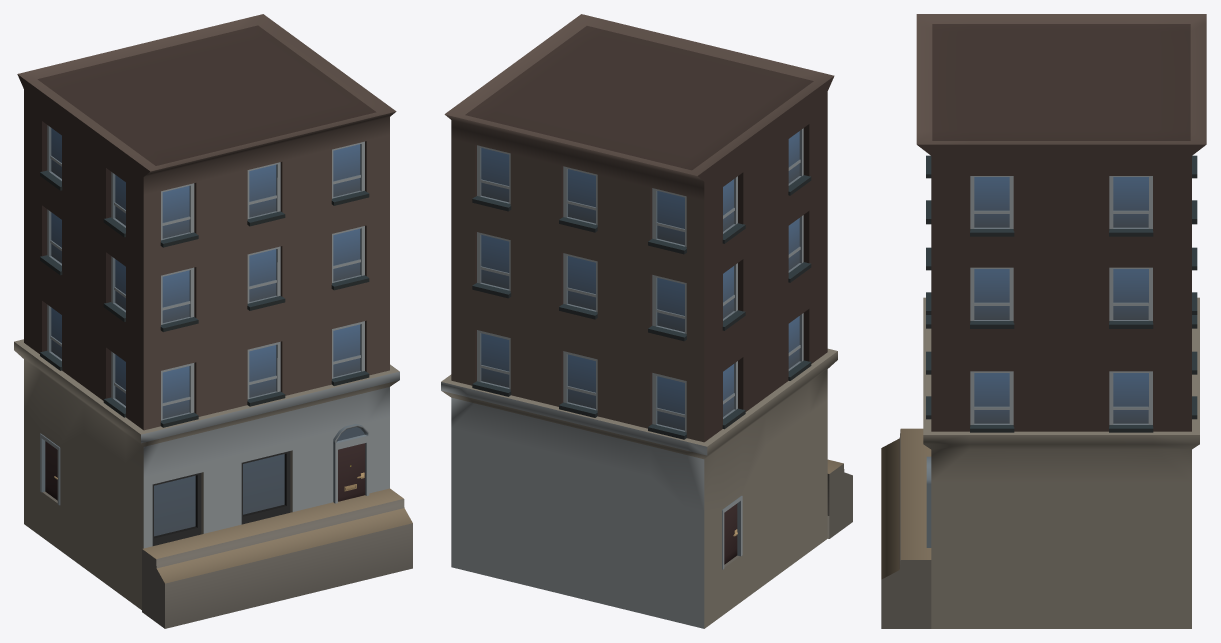
File: buildings-residential-georgianhome_v4.glb
The picture shows the model from 3 angles, left to right: view 1: azimuth 30°, elevation 25°; view 2: azimuth 150°, elevation 25°; view 3: azimuth 270°, elevation 25°; orthographic projection. The views are drawn at different scales.
Visible parts, largest first — view 1: GeorgianHome_v4_base, GeorgianHome_v4_windowRefl; view 2: GeorgianHome_v4_base, GeorgianHome_v4_windowRefl; view 3: GeorgianHome_v4_base, GeorgianHome_v4_windowRefl.
Part boxes in pixels (<box>): GeorgianHome_v4_base: <box>14,14,412,628</box>; GeorgianHome_v4_windowRefl: <box>51,128,364,536</box>; GeorgianHome_v4_base: <box>441,14,852,628</box>; GeorgianHome_v4_windowRefl: <box>481,131,799,430</box>; GeorgianHome_v4_base: <box>881,14,1206,628</box>; GeorgianHome_v4_windowRefl: <box>974,177,1148,423</box>.
Bounding box in the file's own units: 11.34 × 18.64 × 11.34.
